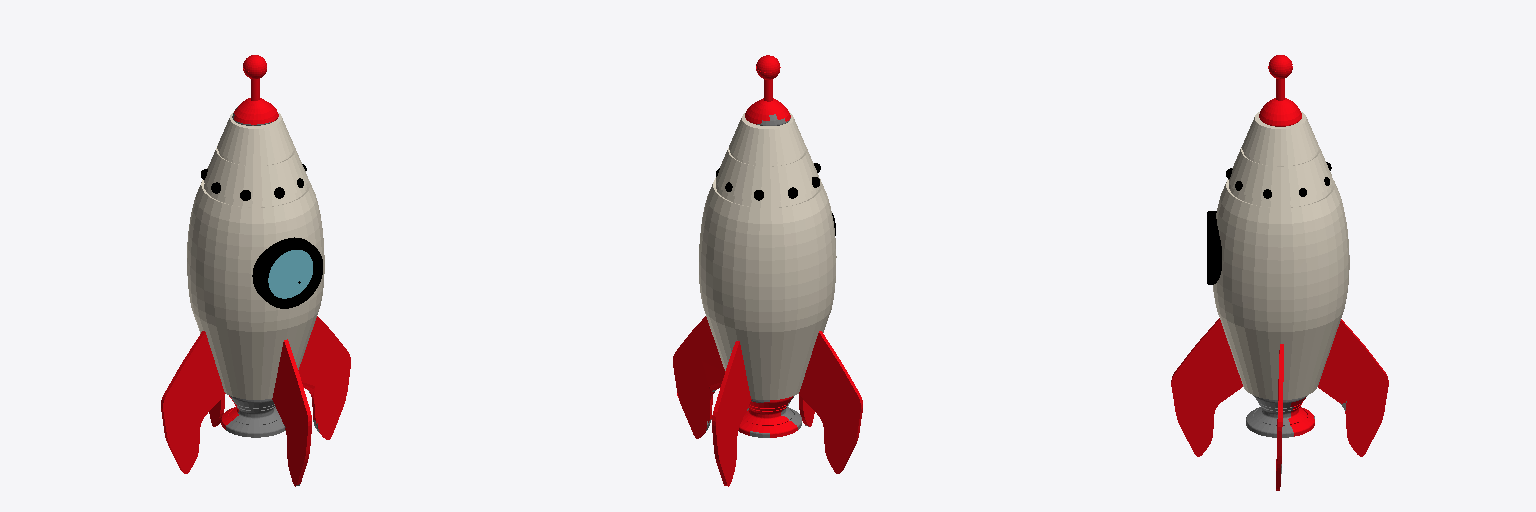
3 views of the same model, side by side, from view 1: azimuth 30°, elevation 25°; view 2: azimuth 150°, elevation 25°; view 3: azimuth 270°, elevation 25° (orthographic).
Parts seen in each view (by area): view 1: cohete:Mesh; view 2: cohete:Mesh; view 3: cohete:Mesh.
Boxes of the visible parts, x1,y1,x2,y2 form: cohete:Mesh: [161, 55, 350, 486]; cohete:Mesh: [673, 55, 862, 486]; cohete:Mesh: [1171, 55, 1388, 490].
Size of the model in its own units: 0.3741 by 0.7598 by 0.3741.
15 materials, 3 textured.